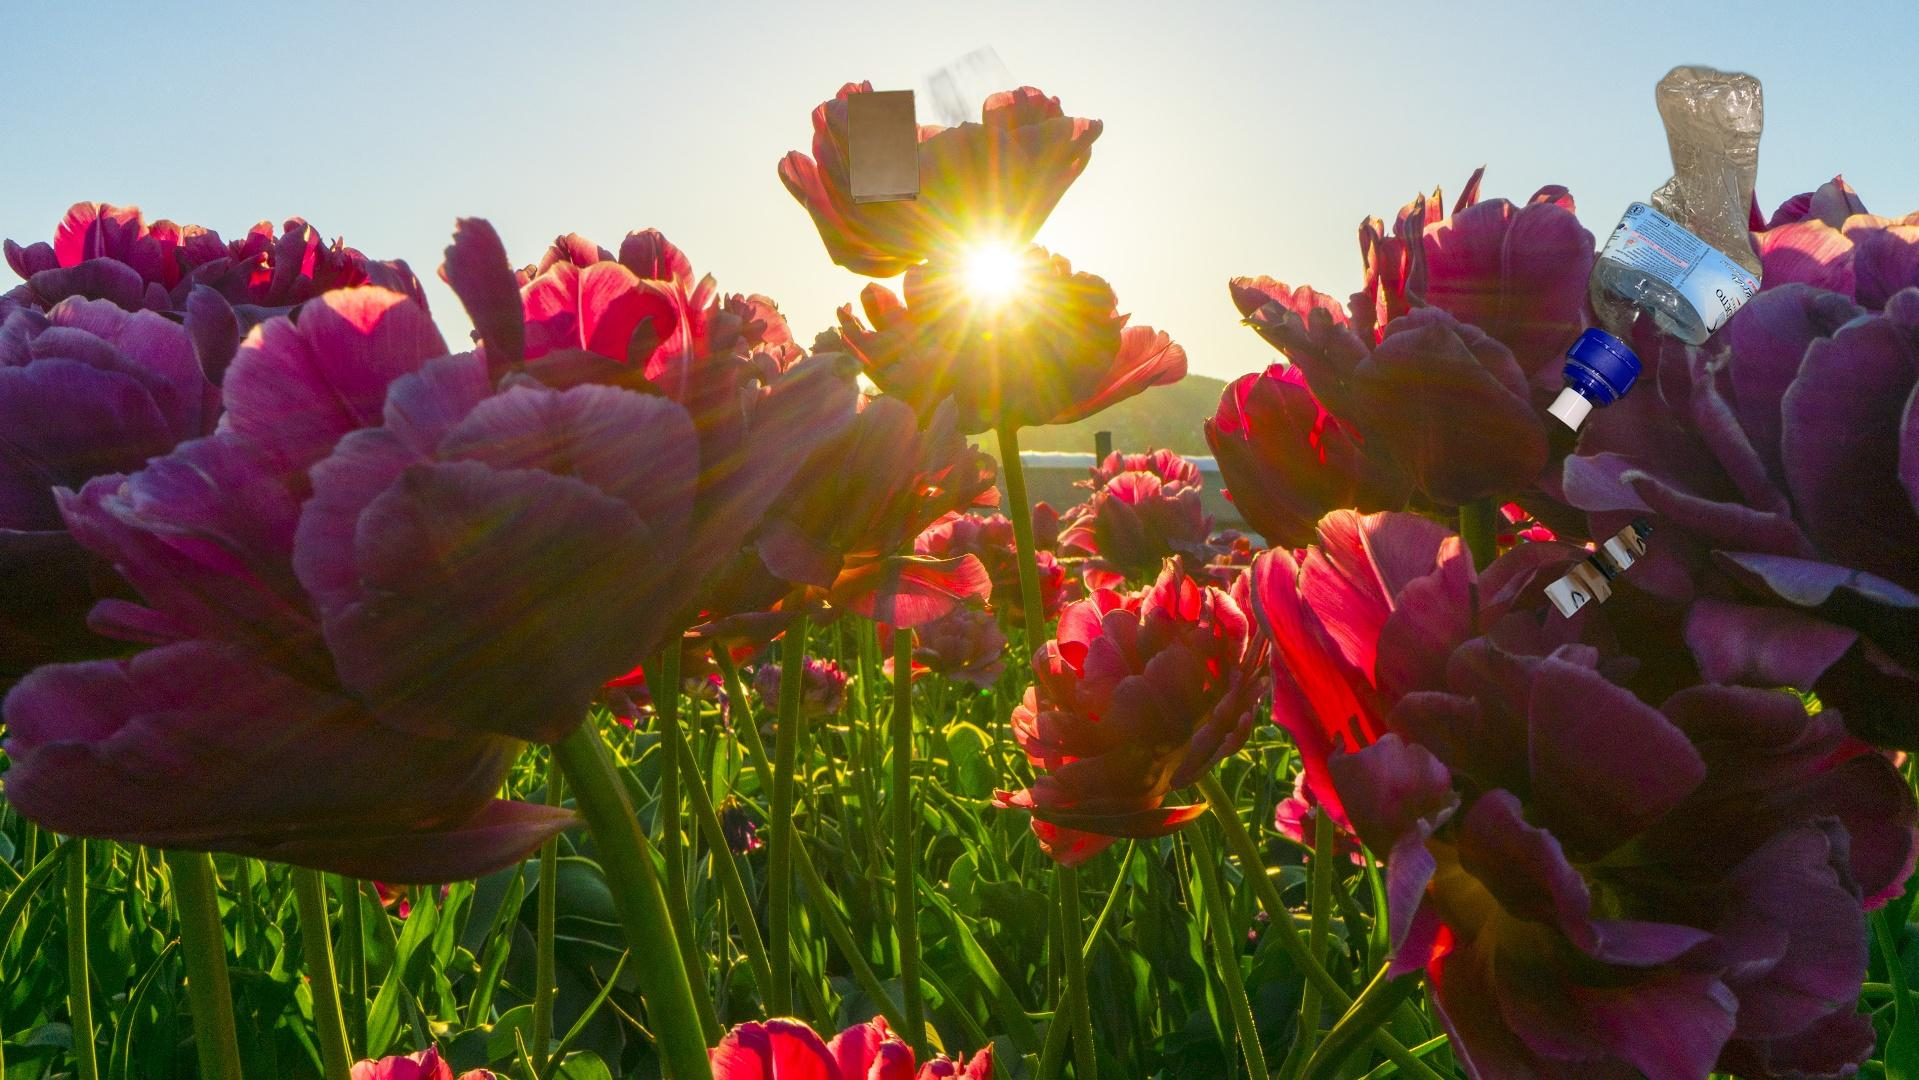paper-bag: (1500, 509, 1682, 729), (844, 42, 1021, 207)
plastic-bottles: (1543, 61, 1767, 438)
